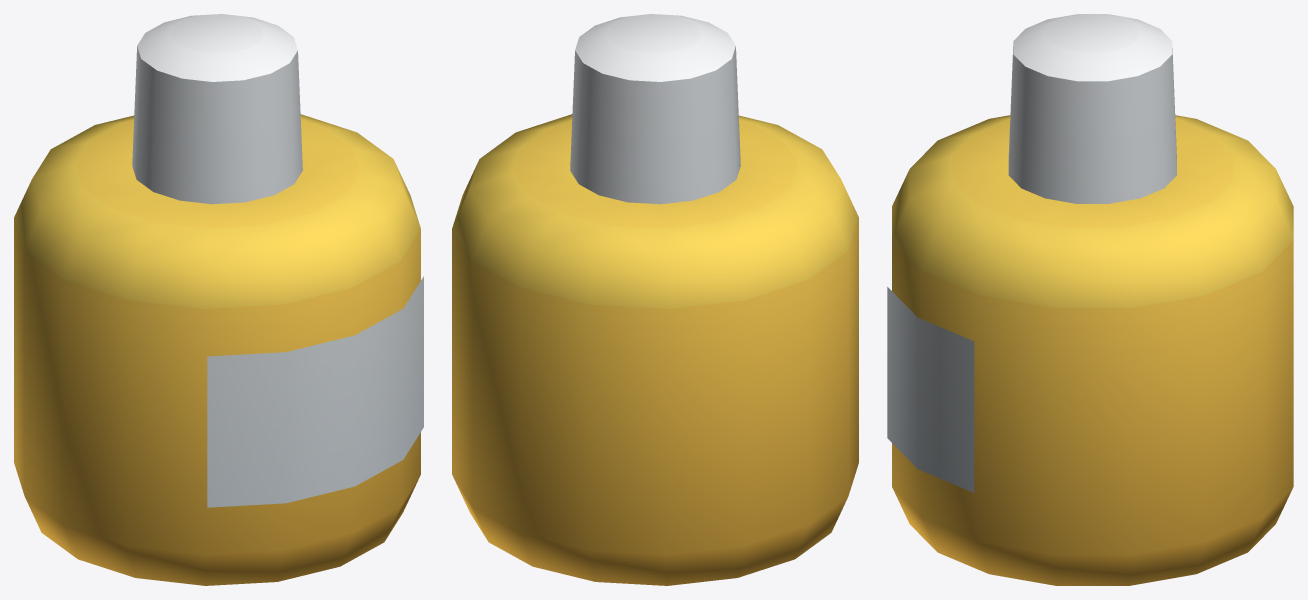
File: Container Bathroom B.glb
The picture shows the model from 3 angles, left to right: view 1: azimuth 30°, elevation 25°; view 2: azimuth 150°, elevation 25°; view 3: azimuth 270°, elevation 25°; orthographic projection.
Visible parts, largest first — view 1: container_bathroom_B_yellow; view 2: container_bathroom_B_yellow; view 3: container_bathroom_B_yellow.
Part boxes in pixels (box(x1,y1,x2,y2)): container_bathroom_B_yellow: box(14, 14, 423, 585); container_bathroom_B_yellow: box(452, 14, 858, 585); container_bathroom_B_yellow: box(887, 14, 1293, 585).
Bounding box in the file's own units: 0.312 × 0.422 × 0.3162.
1 material, 1 textured.
